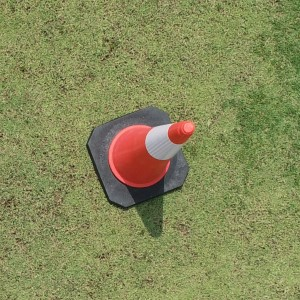traffic cone: (86, 105, 195, 207)
